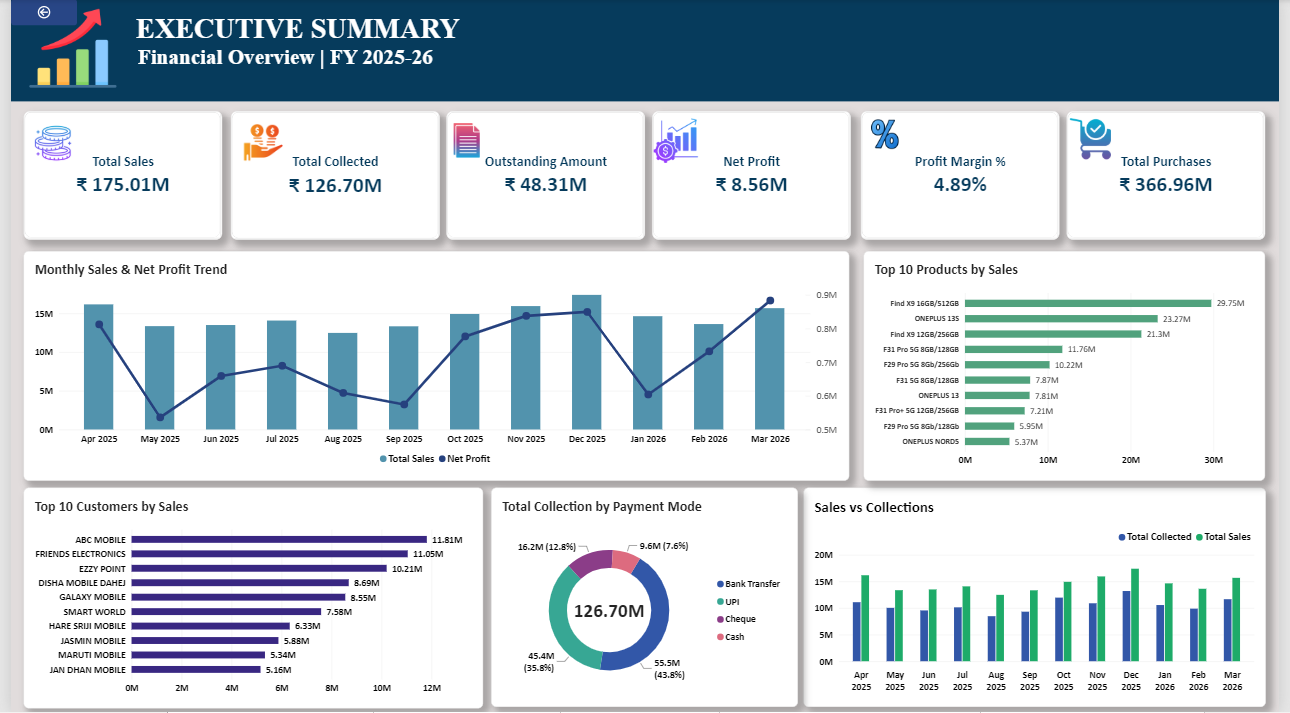

Layout of this report page (visuals, bound fields, positions):
{"tool":"powerbi","page":{"name":"Executive Summary","canvas":[1920,1080],"ordinal":0},"visuals":[{"type":"shape","box":[0,0,1920.2,155],"z":0},{"type":"textbox","box":[0,0,682.4,154.7],"z":1000},{"type":"cardVisual","fields":{"Data":["Customers.Total Sales"]},"box":[18.8,170,301,195],"z":2000},{"type":"cardVisual","fields":{"Data":["Customers.Total Collected"]},"box":[332.5,170,316.2,195],"z":3000},{"type":"cardVisual","fields":{"Data":["Customers.Outstanding Amount"]},"box":[658.8,170,301,195],"z":4000},{"type":"cardVisual","fields":{"Data":["Customers.Net Profit"]},"box":[970,170,301,195],"z":5000},{"type":"cardVisual","fields":{"Data":["Customers.Profit Margin %"]},"box":[1286.2,170,301,195],"z":6000},{"type":"cardVisual","fields":{"Data":["Customers.Total Purchases"]},"box":[1598.8,170,301,195],"z":7000},{"type":"lineClusteredColumnComboChart","title":"Monthly Sales & Net Profit Trend","fields":{"Category":["DateTable.FY Month"],"Y":["Customers.Total Sales"],"Y2":["Customers.Net Profit"]},"box":[20,382.5,1250,347.5],"z":8000},{"type":"clusteredBarChart","title":"Top 10 Customers by Sales","fields":{"Category":["Customers.Customer_Name"],"Y":["Customers.Total Sales"]},"box":[20,740,696,334],"z":9000},{"type":"actionButton","box":[0,0,100,40],"z":10000},{"type":"clusteredColumnChart","title":"Sales vs Collections","fields":{"Category":["DateTable.FY Month"],"Y":["Customers.Total Collected","Customers.Total Sales"]},"box":[1200,740,700,332],"z":11000},{"type":"donutChart","title":"Total Collection by Payment Mode","fields":{"Category":["Payments.Payment_Mode"],"Y":["Customers.Total Collected"]},"box":[728,740,464,332],"z":12000},{"type":"clusteredBarChart","title":"Top 10 Products by Sales","fields":{"Category":["Products.Product_Model"],"Y":["Customers.Total Sales"]},"box":[1290,382,608,348],"z":13000},{"type":"image","box":[27,6.1,132.2,136.5],"z":14000},{"type":"image","box":[27.5,190,72.5,55],"z":15000},{"type":"image","box":[1600,180,67.5,62.5],"z":16000},{"type":"image","box":[340,170,82.5,87.5],"z":17000},{"type":"image","box":[662.5,187.5,52.5,55],"z":18000},{"type":"image","box":[970,180,70,70],"z":19000},{"type":"image","box":[1286.2,170,72.5,70],"z":20000}]}

Visuals, with their boxes in screenshot pixels (x1, y1, x2, y2), scaled from the page's 1920x1080 canvas onto the 1290x713 screenshot:
shape: [0, 0, 1289, 102]
textbox: [0, 0, 458, 102]
cardVisual - Customers.Total Sales: [13, 112, 215, 241]
cardVisual - Customers.Total Collected: [223, 112, 436, 241]
cardVisual - Customers.Outstanding Amount: [443, 112, 645, 241]
cardVisual - Customers.Net Profit: [652, 112, 854, 241]
cardVisual - Customers.Profit Margin %: [864, 112, 1066, 241]
cardVisual - Customers.Total Purchases: [1074, 112, 1276, 241]
"Monthly Sales & Net Profit Trend" lineClusteredColumnComboChart: [13, 253, 853, 482]
"Top 10 Customers by Sales" clusteredBarChart: [13, 489, 481, 709]
actionButton: [0, 0, 67, 26]
"Sales vs Collections" clusteredColumnChart: [806, 489, 1277, 708]
"Total Collection by Payment Mode" donutChart: [489, 489, 801, 708]
"Top 10 Products by Sales" clusteredBarChart: [867, 252, 1275, 482]
image: [18, 4, 107, 94]
image: [18, 125, 67, 162]
image: [1075, 119, 1120, 160]
image: [228, 112, 284, 170]
image: [445, 124, 480, 160]
image: [652, 119, 699, 165]
image: [864, 112, 913, 158]
